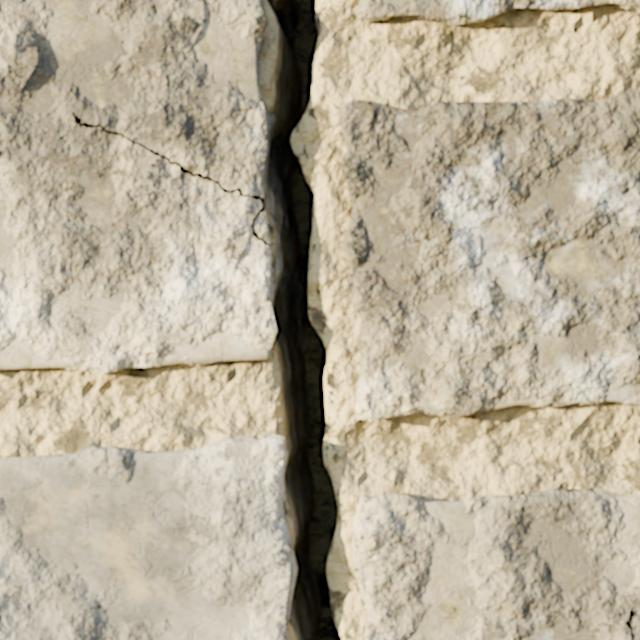crack: (0, 0, 343, 639), (339, 88, 639, 421), (352, 488, 639, 639), (356, 0, 639, 25)
